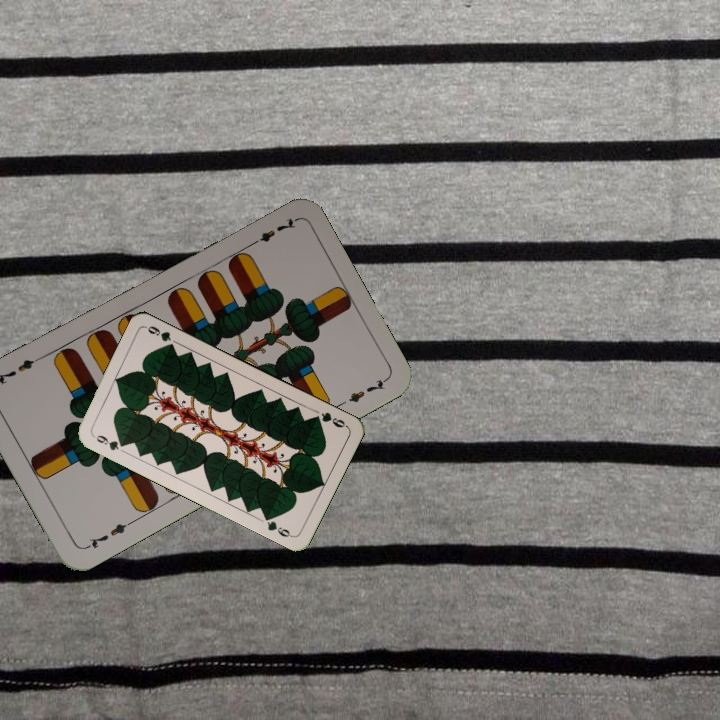E7: (244, 214, 299, 250), (81, 517, 135, 552)
G9: (309, 408, 350, 430), (89, 431, 129, 453)
